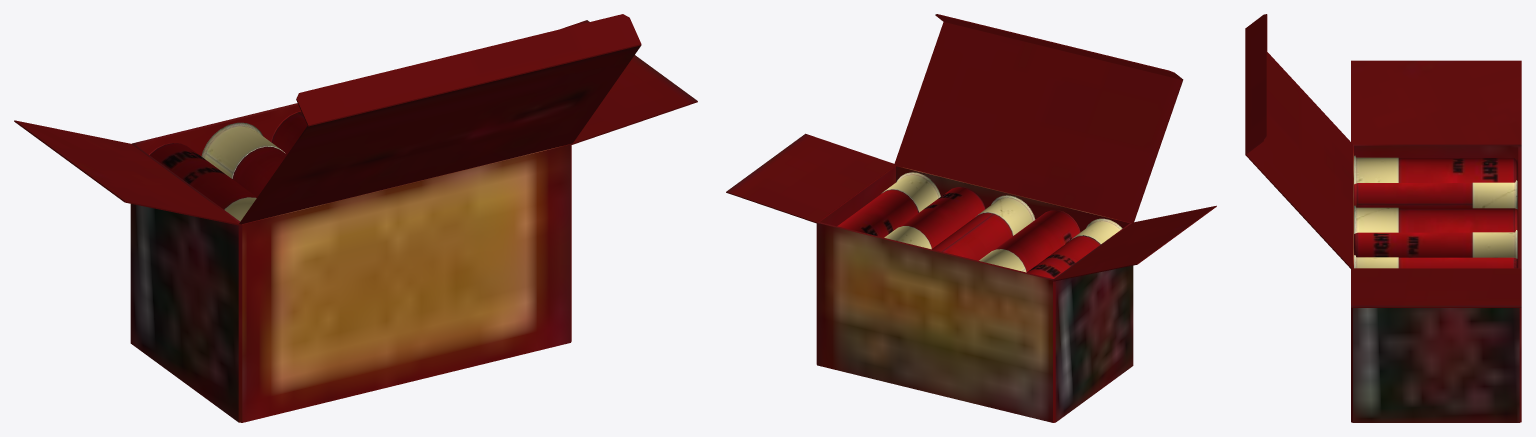
File: shotgun_ammo_box-opt.glb
The picture shows the model from 3 angles, left to right: view 1: azimuth 30°, elevation 25°; view 2: azimuth 150°, elevation 25°; view 3: azimuth 270°, elevation 25°; orthographic projection. The views are drawn at different scales.
Visible parts, largest first — view 1: Object_2; view 2: Object_2; view 3: Object_2.
Part boxes in pixels (bbox=[...]): Object_2: bbox=[14, 14, 697, 422]; Object_2: bbox=[726, 14, 1216, 422]; Object_2: bbox=[1245, 14, 1521, 422].
Bounding box in the file's own units: 7.29 × 4.49 × 3.94.
Materials: 1 (1 with a texture image).
